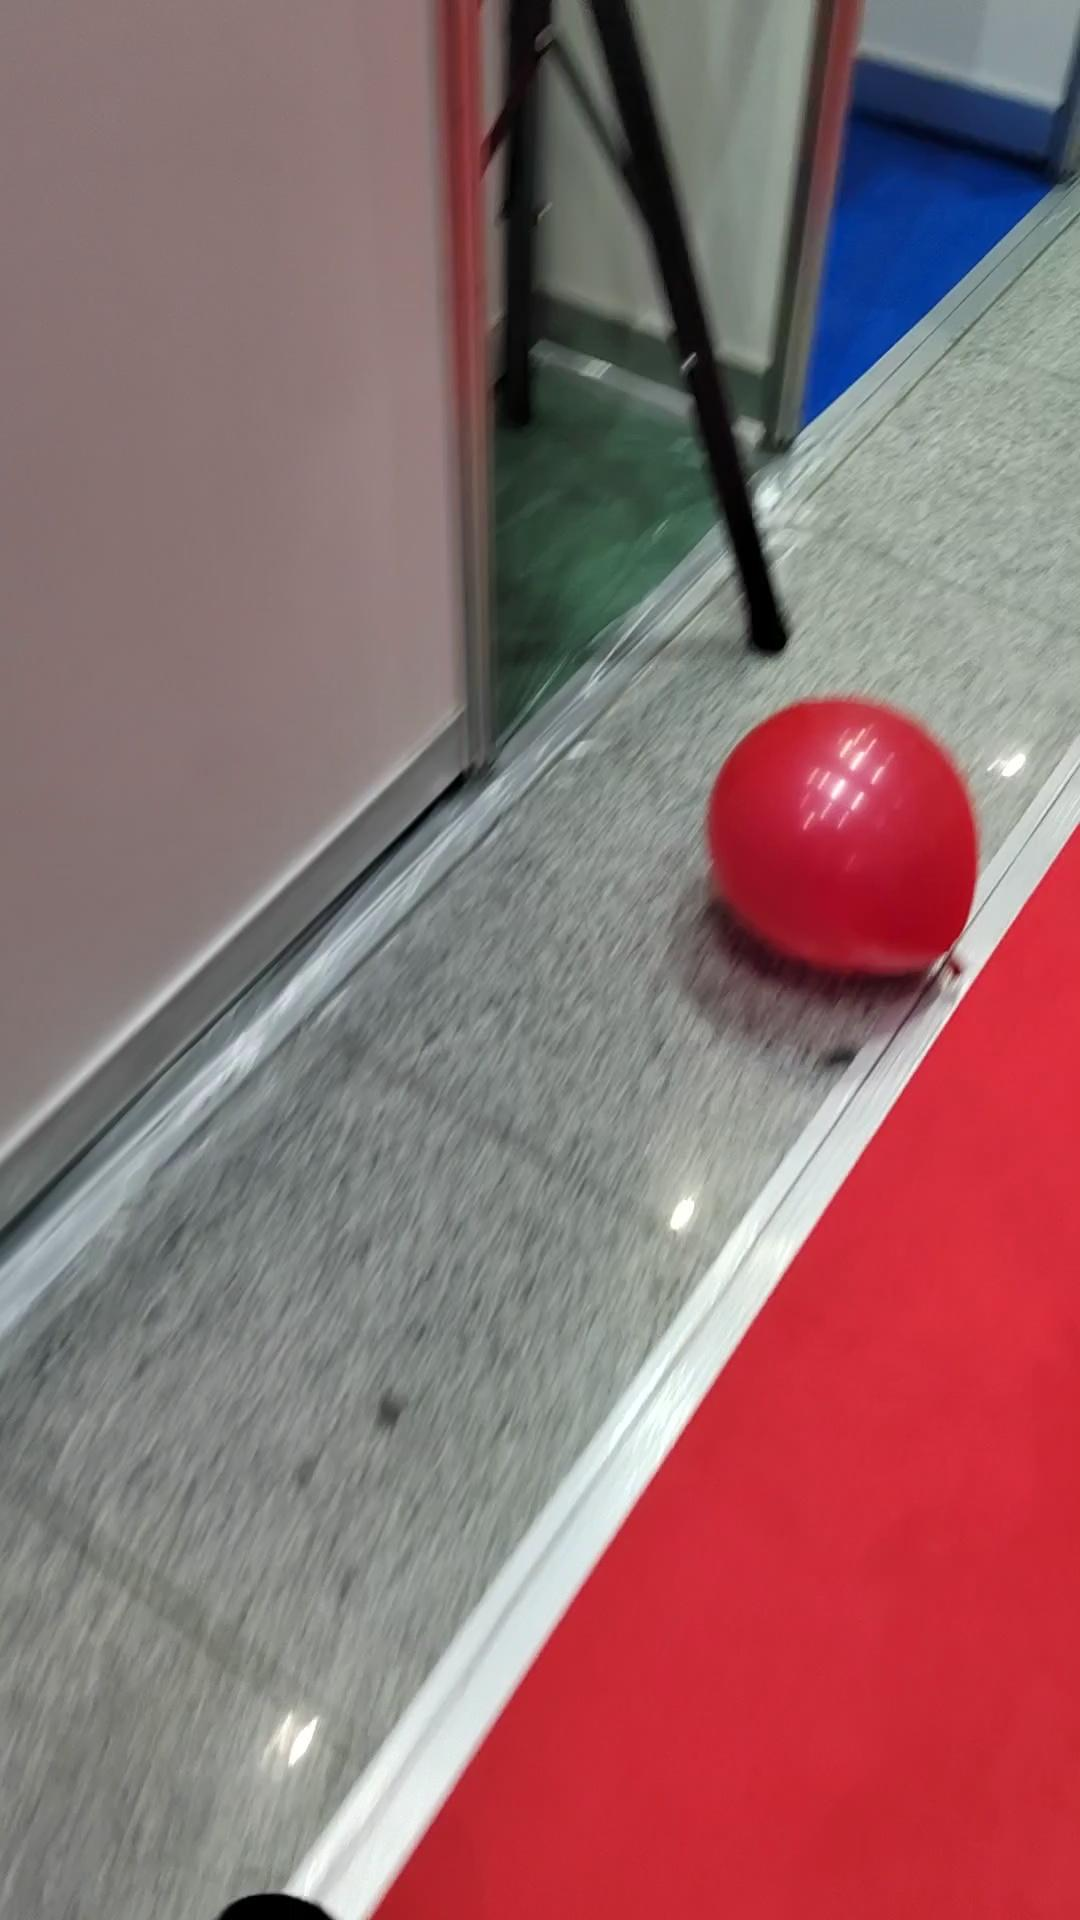red: (696, 684, 988, 996)
